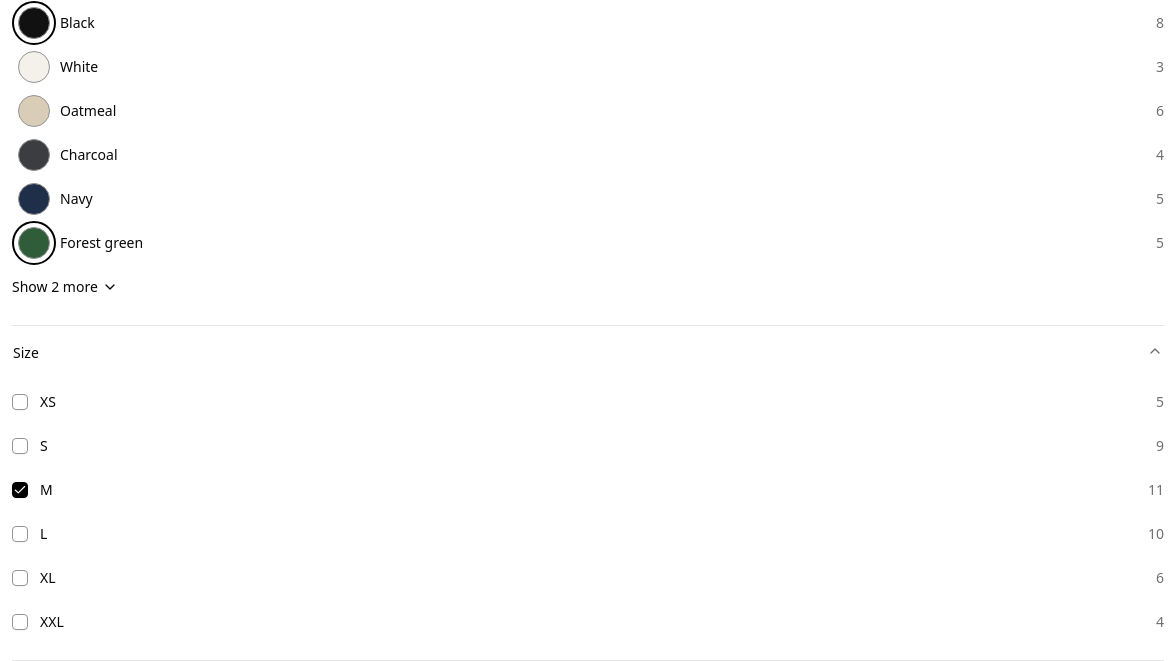
Test case: FilterSidebar: the groups › closes a section with its button and opens it again
(page scrolled)
Click the button "Size": (26, 352) [12,326,1164,380]
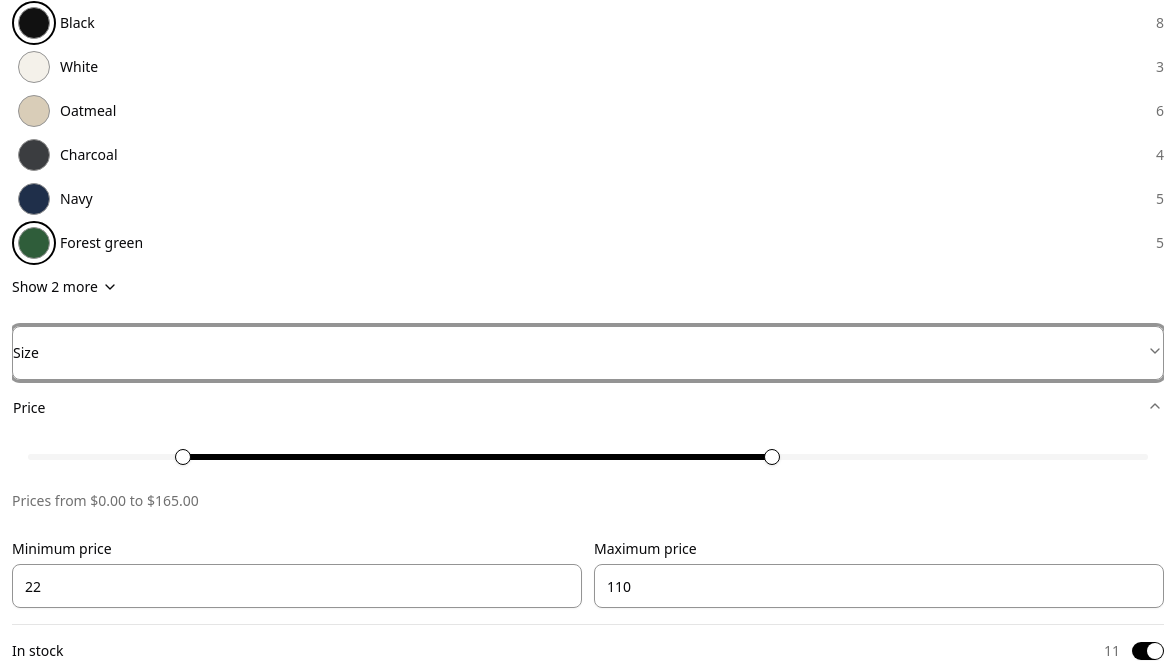
Expected: the button "Size" is collapsed, [12,326,1164,380]
Press Enter
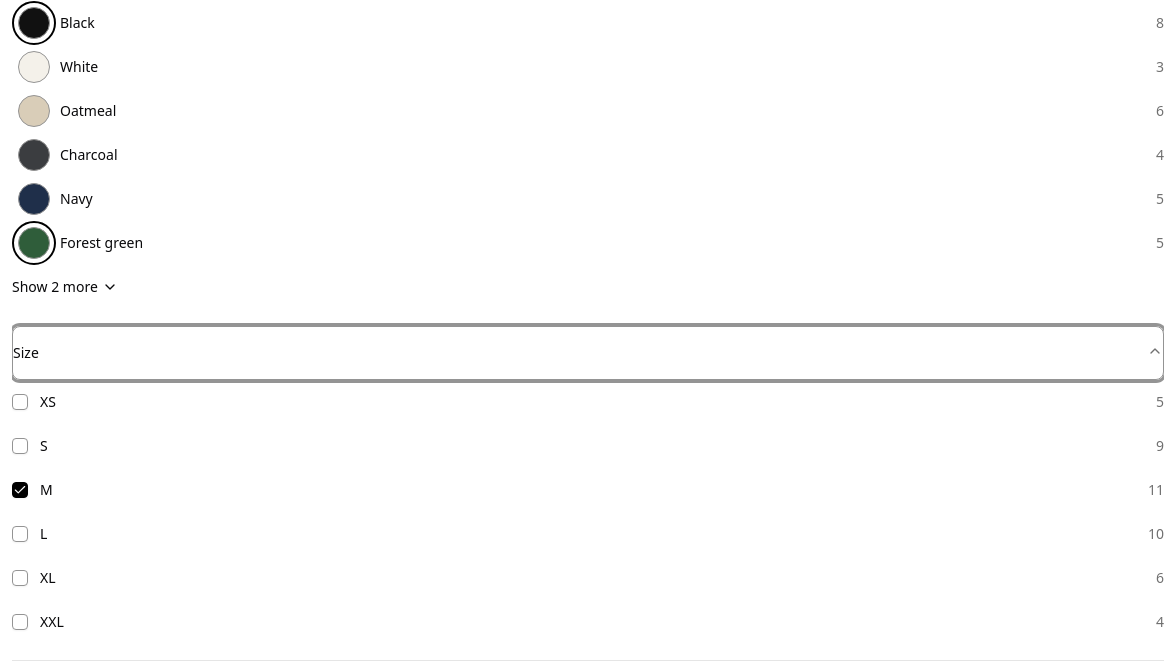
Expected: the button "Size" is expanded, [12,326,1164,380]
